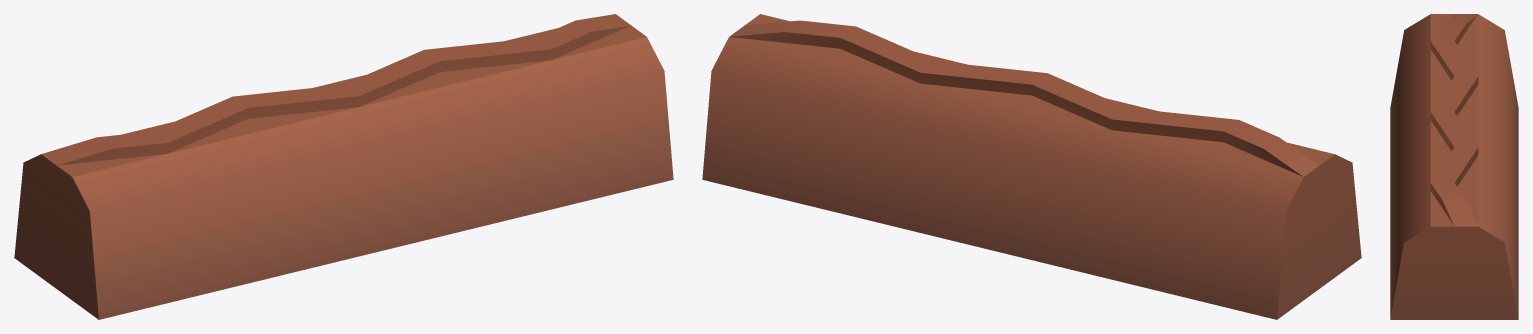
Rendered from food-candy-bar.glb.
3 views of the same model, side by side, from view 1: azimuth 30°, elevation 25°; view 2: azimuth 150°, elevation 25°; view 3: azimuth 270°, elevation 25° (orthographic). The views are drawn at different scales.
Parts seen in each view (by area): view 1: candy-bar; view 2: candy-bar; view 3: candy-bar.
Part boxes in pixels (x1,y1,x2,y2): candy-bar: (14, 14, 673, 319); candy-bar: (702, 14, 1361, 319); candy-bar: (1390, 14, 1518, 319).
Size of the model in its own units: 0.2924 by 0.0653 by 0.0746.
Materials: 1 (1 with a texture image).
